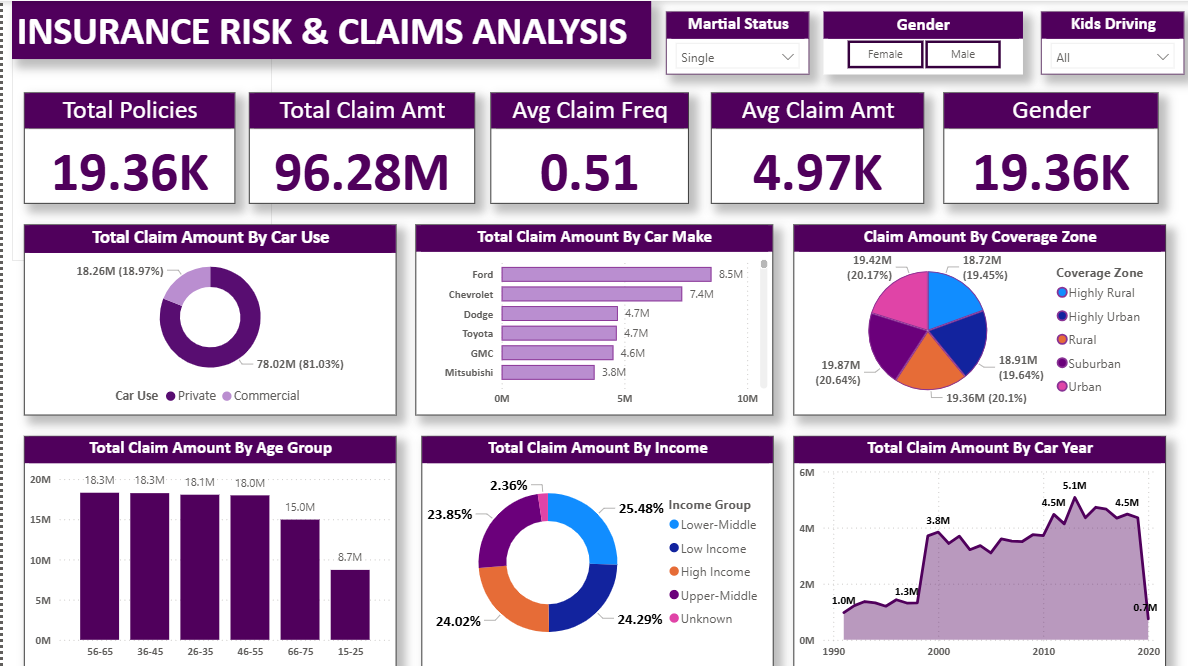

Layout of this report page (visuals, bound fields, positions):
{"tool":"powerbi","page":{"name":"Page 1","canvas":[1280,720],"ordinal":0},"visuals":[{"type":"textbox","box":[10,0,280,280],"z":0},{"type":"textbox","box":[9.4,0,689.8,62.4],"z":1000},{"type":"slicer","title":"Martial Status","fields":{"Values":["insurance_data_car.Marital Status"]},"box":[716.2,11.3,155,68],"z":2000},{"type":"slicer","title":"Gender","fields":{"Values":["insurance_data_car.Gender"]},"box":[886.3,11.3,215.4,68],"z":3000},{"type":"slicer","title":"Kids Driving","fields":{"Values":["insurance_data_car.Kids Driving"]},"box":[1120.6,11.3,155,68],"z":4000},{"type":"textbox","box":[10,448,280,272],"z":5000},{"type":"card","title":"Total Policies","fields":{"Values":["CountNonNull(insurance_data_car.ID)"]},"box":[22,98,228,120],"z":6000},{"type":"card","title":"Total Claim Amt","fields":{"Values":["Sum(insurance_data_car.Claim Amount)"]},"box":[266,98,244,120],"z":7000},{"type":"card","title":"Avg Claim Freq","fields":{"Values":["Avg(insurance_data_car.Claim Freq)","select"]},"box":[526,98,214,120],"z":8000},{"type":"card","title":"Avg Claim Amt","fields":{"Values":["Avg(insurance_data_car.Claim Amount)"]},"box":[764,98,230,120],"z":9000},{"type":"card","title":"Gender","fields":{"Values":["CountNonNull(insurance_data_car.Gender)"]},"box":[1016,98,232,120],"z":10000},{"type":"donutChart","title":"Total Claim Amount By Car Use","fields":{"Y":["Sum(insurance_data_car.Claim Amount)"],"Category":["insurance_data_car.Car Use"]},"box":[22,242,402,206],"z":11000},{"type":"barChart","title":"Total Claim Amount By Car Make","fields":{"Category":["insurance_data_car.Car Make"],"Y":["Sum(insurance_data_car.Claim Amount)"]},"box":[446,242,386,206],"z":12000},{"type":"pieChart","title":"Claim Amount By Coverage Zone","fields":{"Y":["Sum(insurance_data_car.Claim Amount)"],"Series":["insurance_data_car.Coverage Zone"]},"box":[854,242,402,206],"z":13000},{"type":"clusteredColumnChart","title":"Total Claim Amount By Age Group","fields":{"Y":["Sum(insurance_data_car.Claim Amount)"],"Category":["insurance_data_car.Age Group"]},"box":[22,470,402,250],"z":14000},{"type":"areaChart","title":"Total Claim Amount By Car Year","fields":{"Category":["insurance_data_car.Car Year"],"Y":["Sum(insurance_data_car.Claim Amount)"]},"box":[854,470,402,250],"z":15000},{"type":"donutChart","title":"Total Claim Amount By Income","fields":{"Y":["Sum(insurance_data_car.Claim Amount)"],"Category":["insurance_data_car.Income Group"]},"box":[452,470,380,250],"z":16000}]}

Visuals, with their boxes in screenshot pixels (x1, y1, x2, y2), scaled from the page's 1280x720 canvas onto the 1188x666 screenshot:
textbox: x1=9, y1=0, x2=269, y2=259
textbox: x1=9, y1=0, x2=649, y2=58
"Martial Status" slicer: x1=665, y1=10, x2=809, y2=73
"Gender" slicer: x1=823, y1=10, x2=1023, y2=73
"Kids Driving" slicer: x1=1040, y1=10, x2=1184, y2=73
textbox: x1=9, y1=414, x2=269, y2=665
"Total Policies" card: x1=20, y1=91, x2=232, y2=202
"Total Claim Amt" card: x1=247, y1=91, x2=473, y2=202
"Avg Claim Freq" card: x1=488, y1=91, x2=687, y2=202
"Avg Claim Amt" card: x1=709, y1=91, x2=923, y2=202
"Gender" card: x1=943, y1=91, x2=1158, y2=202
"Total Claim Amount By Car Use" donutChart: x1=20, y1=224, x2=394, y2=414
"Total Claim Amount By Car Make" barChart: x1=414, y1=224, x2=772, y2=414
"Claim Amount By Coverage Zone" pieChart: x1=793, y1=224, x2=1166, y2=414
"Total Claim Amount By Age Group" clusteredColumnChart: x1=20, y1=435, x2=394, y2=665
"Total Claim Amount By Car Year" areaChart: x1=793, y1=435, x2=1166, y2=665
"Total Claim Amount By Income" donutChart: x1=420, y1=435, x2=772, y2=665
